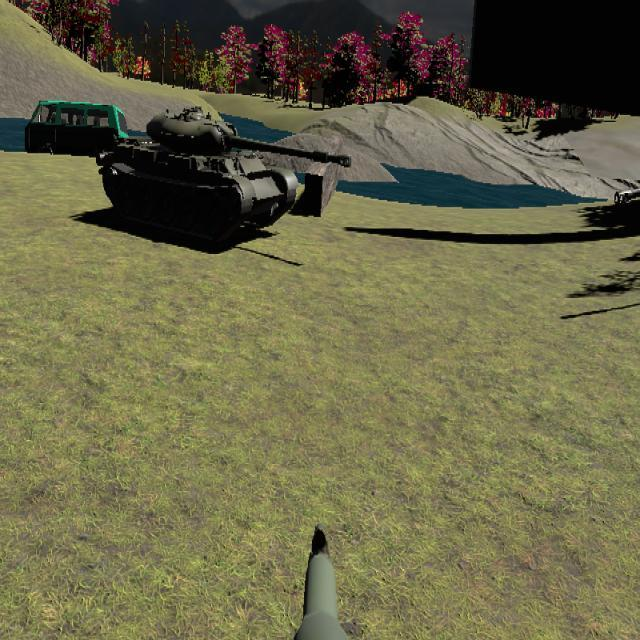Tank: (100, 106, 353, 247), (613, 165, 640, 233)
car: (24, 99, 129, 169)
